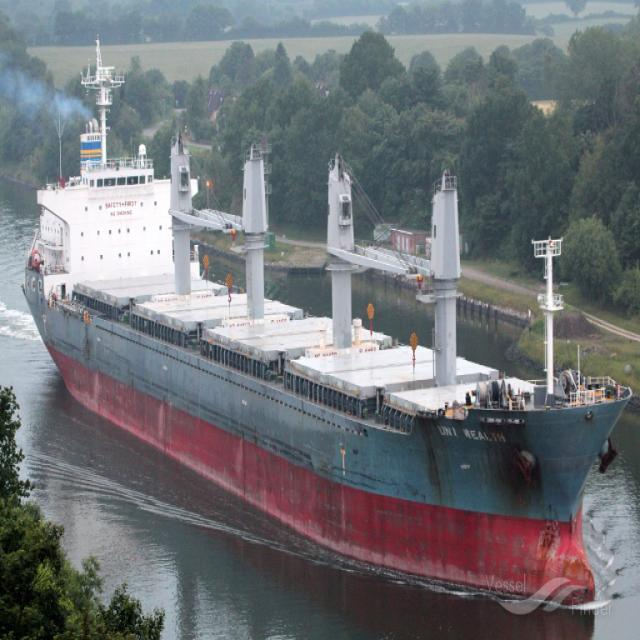OCR: (433, 423, 509, 448)
